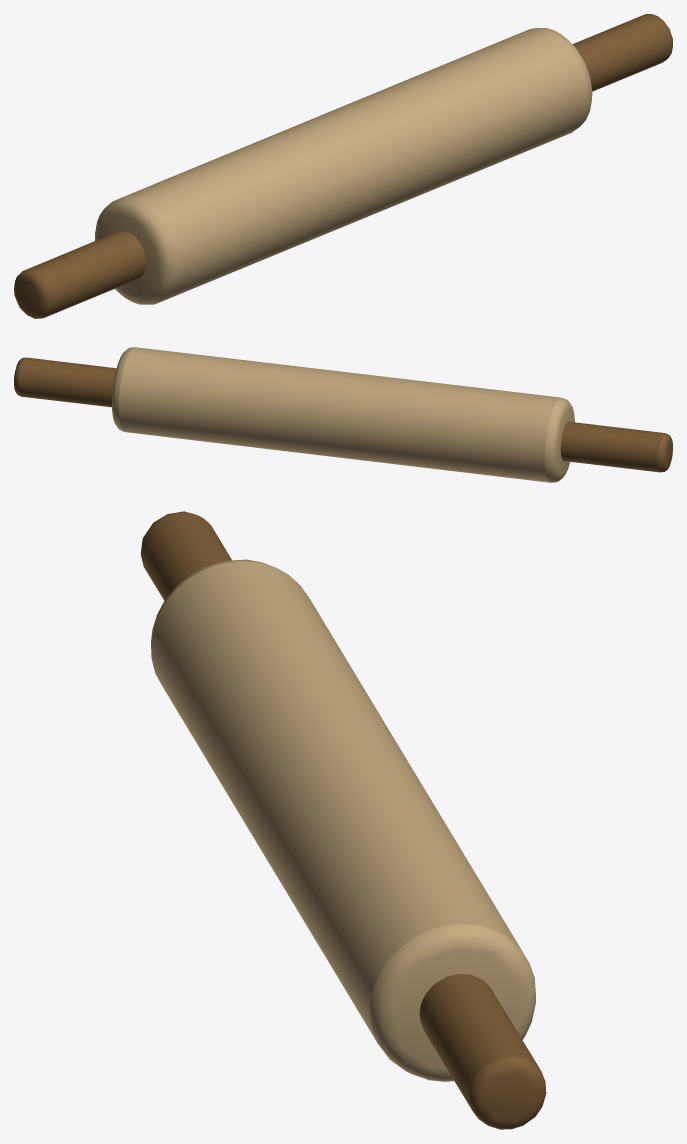
File: cay_can.glb
The picture shows the model from 3 angles, top to bottom: view 1: azimuth 30°, elevation 25°; view 2: azimuth 150°, elevation 25°; view 3: azimuth 270°, elevation 25°; orthographic projection. The views are drawn at different scales.
Parts seen in each view (by area): view 1: cay_can; view 2: cay_can; view 3: cay_can.
Part boxes in pixels (x1,y1,x2,y2): cay_can: (14,14,672,318); cay_can: (14,347,672,482); cay_can: (140,511,546,1129).
Bounding box in the file's own units: 0.4013 × 0.052 × 0.1228.
